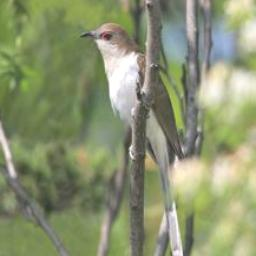Cuckoo: (77, 20, 185, 256)
